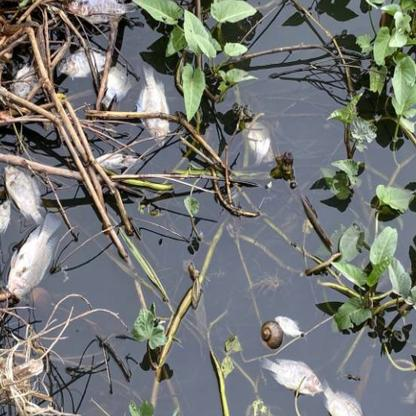deceased fish: (9, 211, 65, 298), (255, 351, 324, 399), (132, 67, 171, 144), (1, 166, 47, 228), (53, 47, 119, 78)
